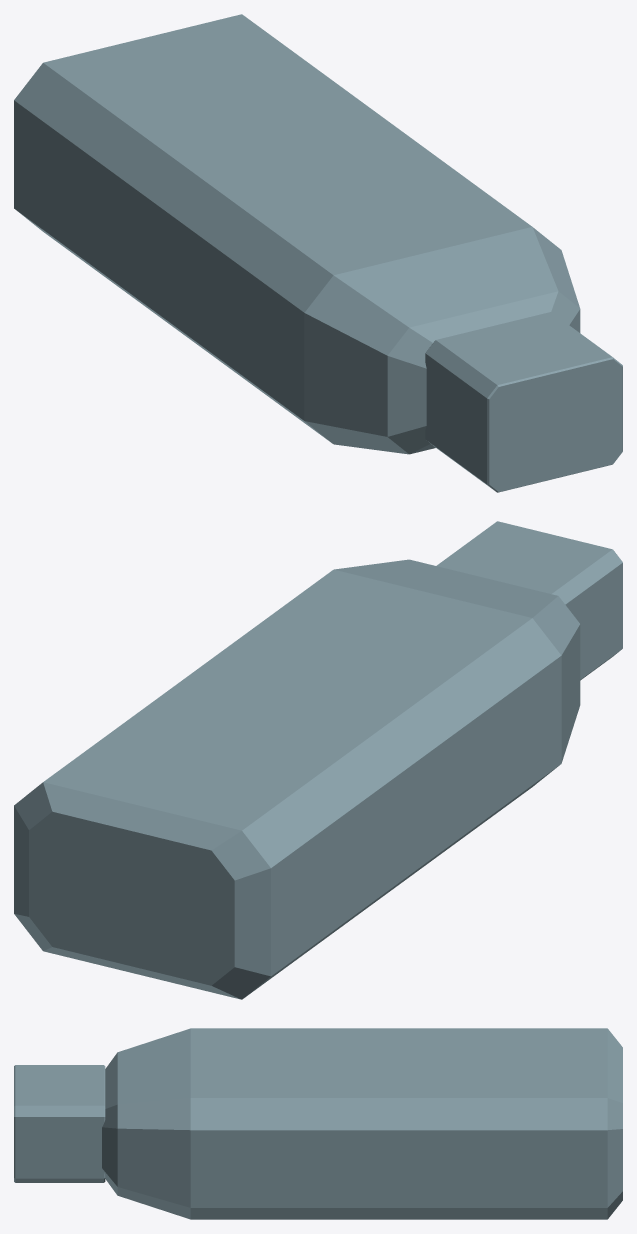
Rendered from shower_gel.glb.
3 renders of one model, top to bottom at view 1: azimuth 30°, elevation 25°; view 2: azimuth 150°, elevation 25°; view 3: azimuth 270°, elevation 25°, orthographic. The views are drawn at different scales.
Parts seen in each view (by area): view 1: shower_gel; view 2: shower_gel; view 3: shower_gel.
Boxes of the visible parts, x1=… form: shower_gel: x1=14, y1=14, x2=622, y2=492; shower_gel: x1=14, y1=521, x2=622, y2=999; shower_gel: x1=14, y1=1028, x2=622, y2=1219.
Size of the model in its own units: 0.07 by 0.0454 by 0.2.
